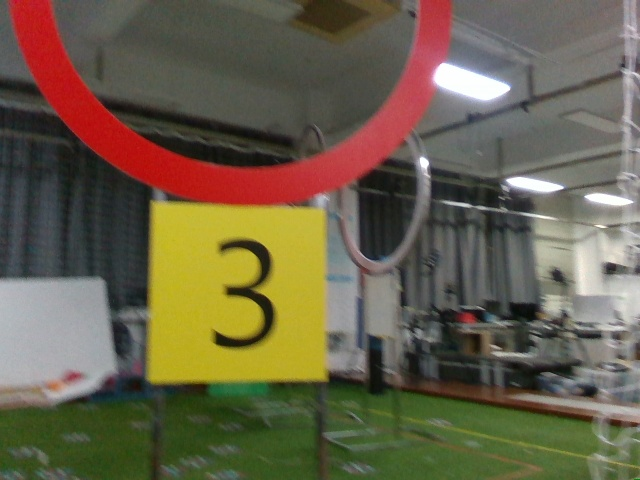target: (145, 223, 323, 379)
